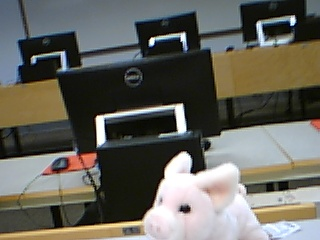piggy: (142, 149, 270, 240)
